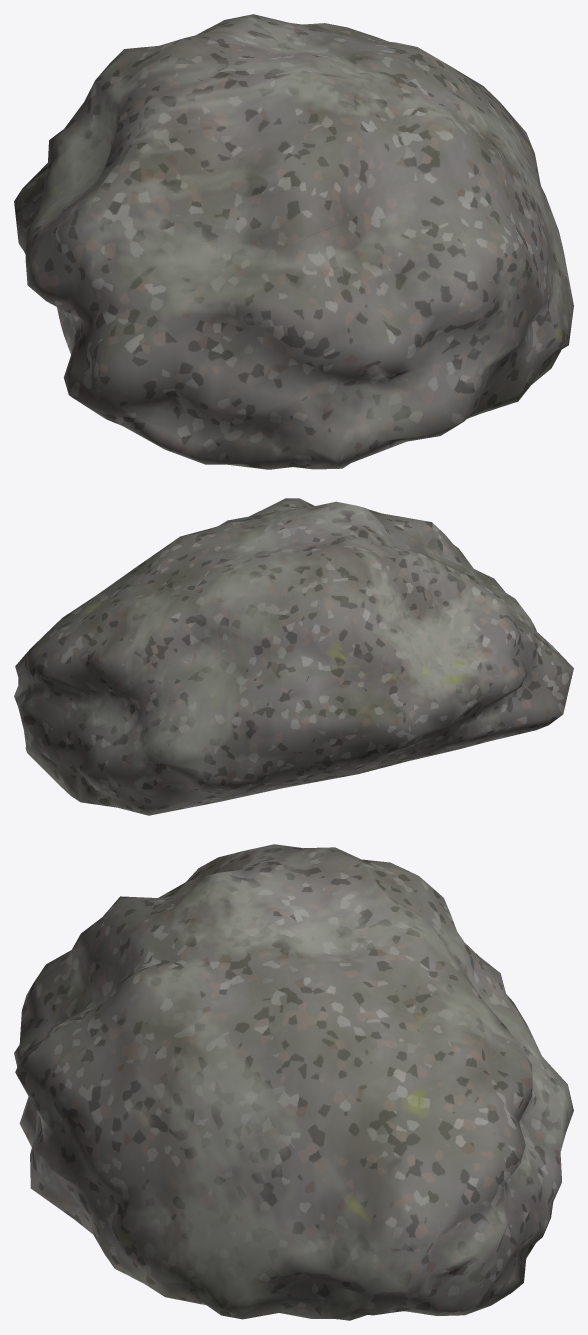
Rendered from boulder_050_LOD0.glb.
The picture shows the model from 3 angles, top to bottom: view 1: azimuth 30°, elevation 25°; view 2: azimuth 150°, elevation 25°; view 3: azimuth 270°, elevation 25°; orthographic projection. The views are drawn at different scales.
Visible parts, largest first — view 1: Boulder_050_LOD0; view 2: Boulder_050_LOD0; view 3: Boulder_050_LOD0.
Part boxes in pixels (x1=…): Boulder_050_LOD0: x1=14, y1=14, x2=573, y2=469; Boulder_050_LOD0: x1=14, y1=498, x2=573, y2=815; Boulder_050_LOD0: x1=14, y1=844, x2=573, y2=1320.
Bounding box in the file's own units: 0.4787 × 0.2646 × 0.4074.
1 material, 1 textured.
